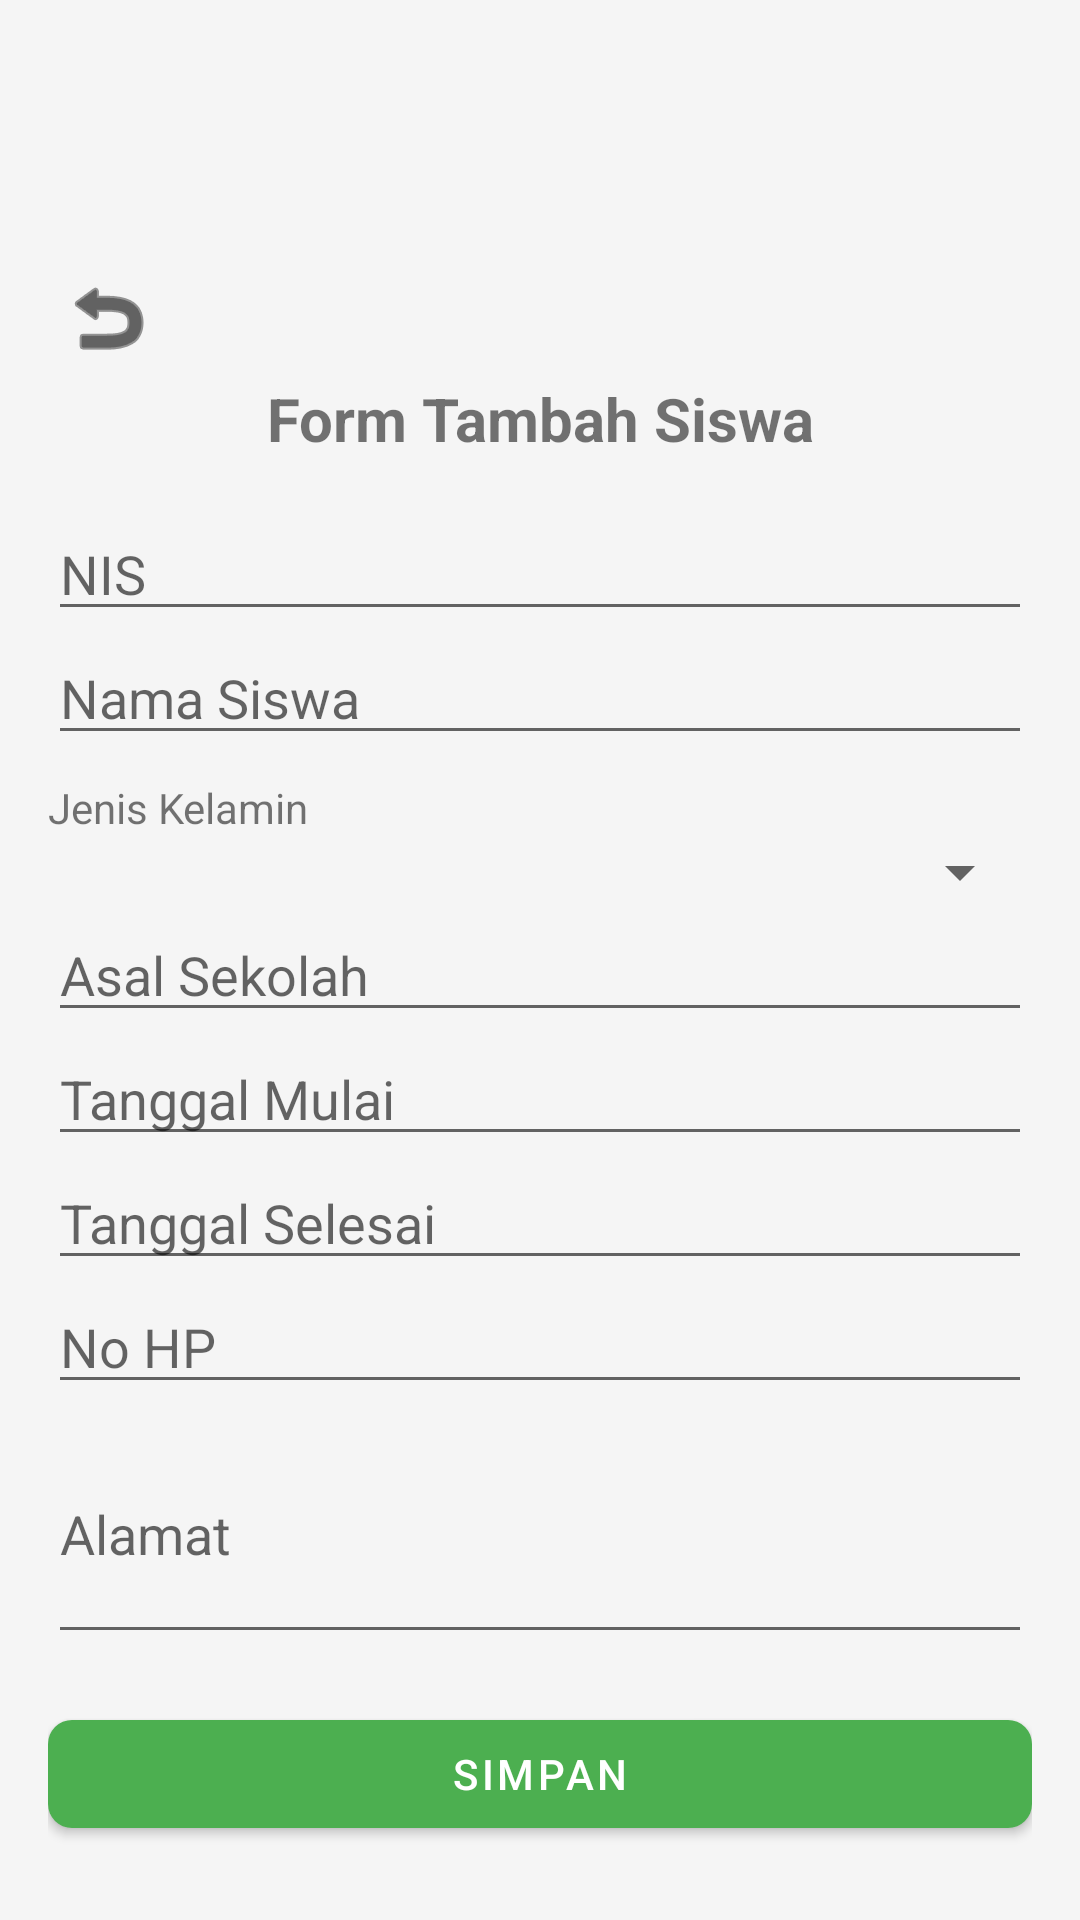

Icon click points for this 1080*1920 phone screenshot, format [x,y]:
Kembali: [109,318]
